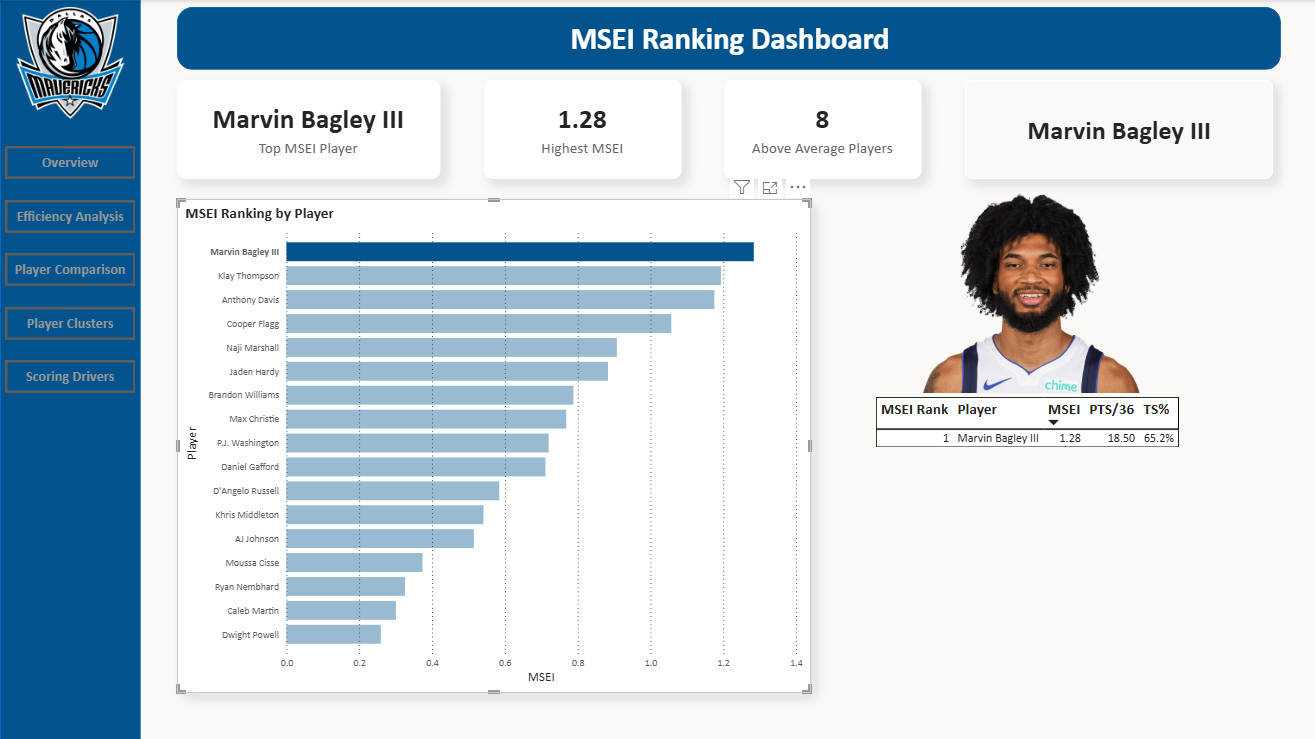

The dashboard page shown, as its layout file describes it:
{"tool":"powerbi","page":{"name":"MSEI Ranking","canvas":[1600,900],"ordinal":1},"visuals":[{"type":"shape","box":[0,0,170.7,900],"z":0},{"type":"image","box":[5.5,8.9,158.5,136.3],"z":1000},{"type":"actionButton","box":[5.5,177.3,158.5,39.9],"z":2000},{"type":"actionButton","box":[5.5,242.5,158.5,39.9],"z":3000},{"type":"actionButton","box":[5.5,307.6,158.5,39.9],"z":4000},{"type":"actionButton","box":[5.5,372.7,158.5,39.9],"z":5000},{"type":"actionButton","box":[5.5,437.8,158.5,39.9],"z":6000},{"type":"shape","box":[215,8.9,1341.1,76.5],"z":7000},{"type":"textbox","box":[227.2,17.7,1319,59.9],"z":8000},{"type":"cardVisual","fields":{"Data":["mavericks_scoring_efficiency_dashboard.Top MSEI Player"]},"box":[215.2,97.3,319.8,120.4],"z":9000},{"type":"cardVisual","fields":{"Data":["mavericks_scoring_efficiency_dashboard.Highest MSEI"]},"box":[587.6,97.3,239.5,120.4],"z":10000},{"type":"cardVisual","fields":{"Data":["mavericks_scoring_efficiency_dashboard.Above Average Players"]},"box":[879.8,97.3,239.5,120.4],"z":11000},{"type":"clusteredBarChart","title":"MSEI Ranking by Player","fields":{"Category":["mavericks_scoring_efficiency_dashboard.Player"],"Y":["mavericks_scoring_efficiency_dashboard.Avg MSEI"]},"box":[215,241.8,770.2,600.2],"z":12000},{"type":"card","fields":{"Values":["mavericks_scoring_efficiency_dashboard.Selected Player"]},"box":[1172,97.3,374.5,120.4],"z":13000},{"type":"image","box":[1037.5,234.5,431.3,243],"z":14000},{"type":"tableEx","fields":{"Values":["mavericks_scoring_efficiency_dashboard.MSEI Rank","mavericks_scoring_efficiency_dashboard.Player","Sum(mavericks_scoring_efficiency_dashboard.MSEI)","Sum(mavericks_scoring_efficiency_dashboard.Projected_PTS_36)","Sum(mavericks_scoring_efficiency_dashboard.TS%)"]},"box":[1058.2,477.4,391.2,409.4],"z":15000}]}

Visuals, with their boxes in screenshot pixels (x1, y1, x2, y2), scaled from the page's 1600x900 canvas onto the 1315x739 screenshot:
shape: x1=0, y1=0, x2=140, y2=738
image: x1=5, y1=7, x2=135, y2=119
actionButton: x1=5, y1=146, x2=135, y2=178
actionButton: x1=5, y1=199, x2=135, y2=232
actionButton: x1=5, y1=253, x2=135, y2=285
actionButton: x1=5, y1=306, x2=135, y2=339
actionButton: x1=5, y1=359, x2=135, y2=392
shape: x1=177, y1=7, x2=1279, y2=70
textbox: x1=187, y1=15, x2=1271, y2=64
cardVisual - mavericks_scoring_efficiency_dashboard.Top MSEI Player: x1=177, y1=80, x2=440, y2=179
cardVisual - mavericks_scoring_efficiency_dashboard.Highest MSEI: x1=483, y1=80, x2=680, y2=179
cardVisual - mavericks_scoring_efficiency_dashboard.Above Average Players: x1=723, y1=80, x2=920, y2=179
"MSEI Ranking by Player" clusteredBarChart: x1=177, y1=199, x2=810, y2=691
card - mavericks_scoring_efficiency_dashboard.Selected Player: x1=963, y1=80, x2=1271, y2=179
image: x1=853, y1=193, x2=1207, y2=392
tableEx - mavericks_scoring_efficiency_dashboard.MSEI Rank x mavericks_scoring_efficiency_dashboard.Player: x1=870, y1=392, x2=1191, y2=728
